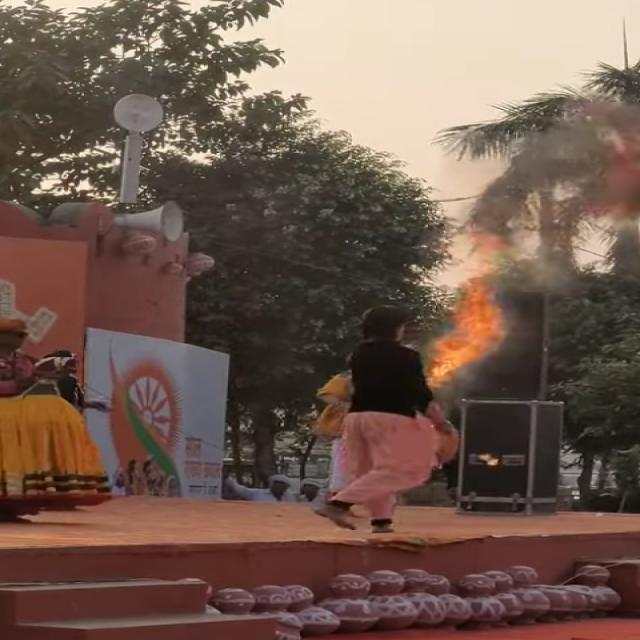fire: (456, 275, 508, 325), (426, 346, 494, 376)
